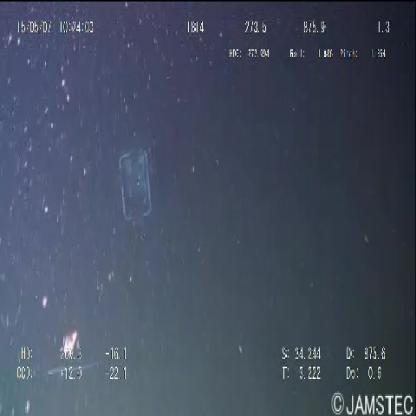Rác: (118, 148, 154, 224)
